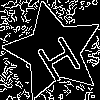H: (28, 26, 85, 84)
